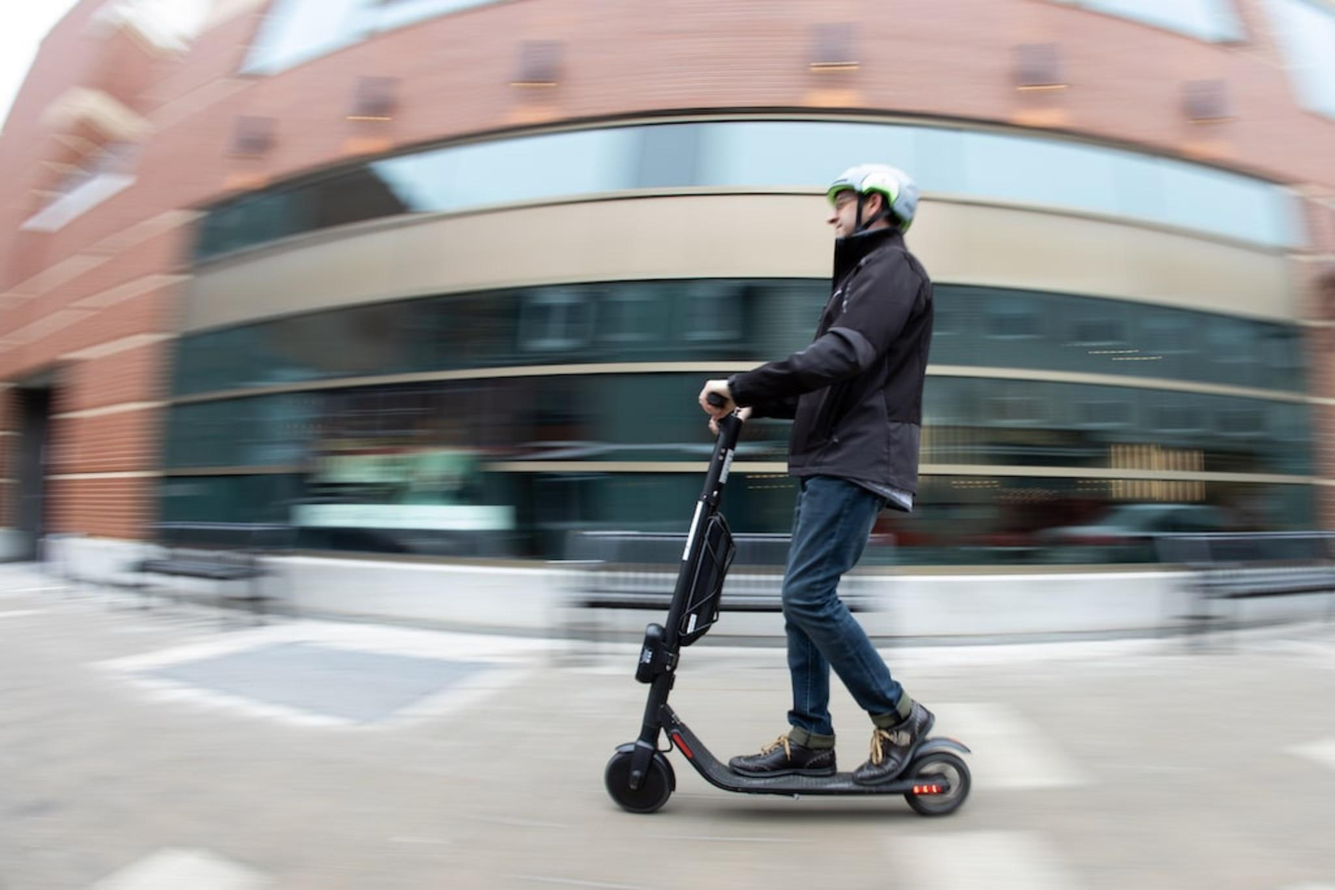helmet: (826, 167, 924, 254)
human: (668, 162, 946, 792)
kickboard: (585, 732, 975, 823)
